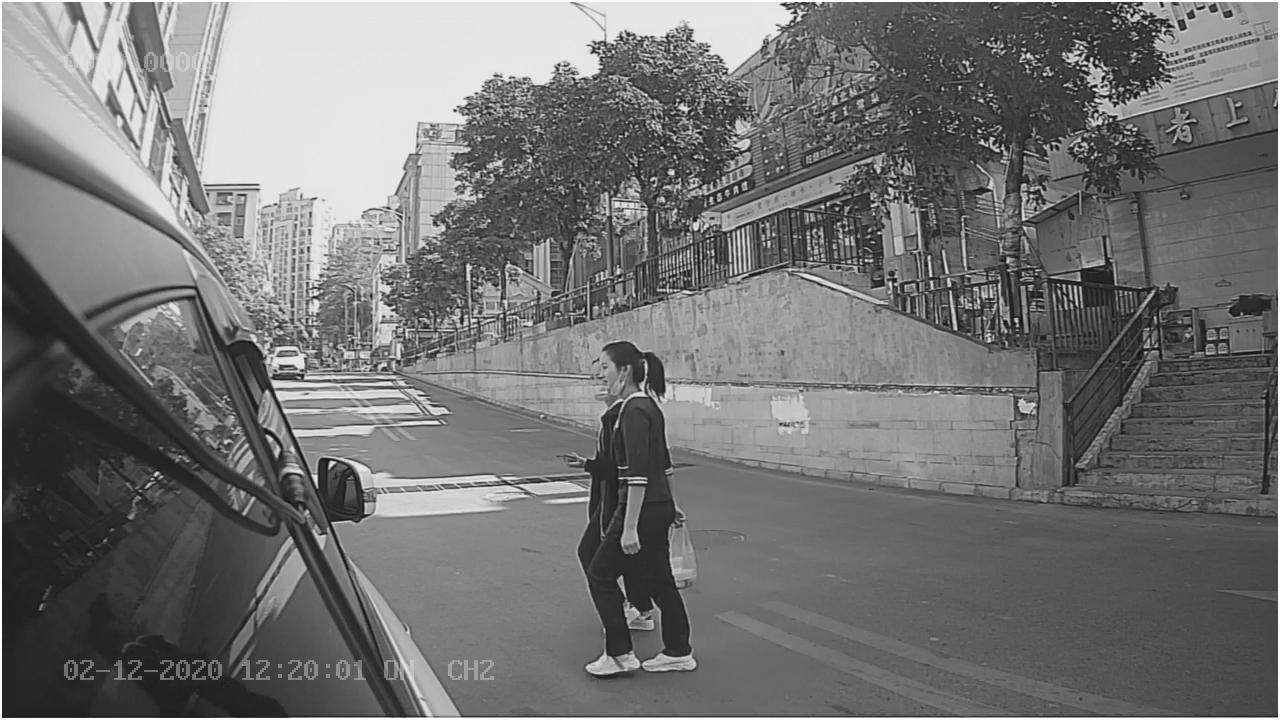person: (557, 340, 720, 681)
